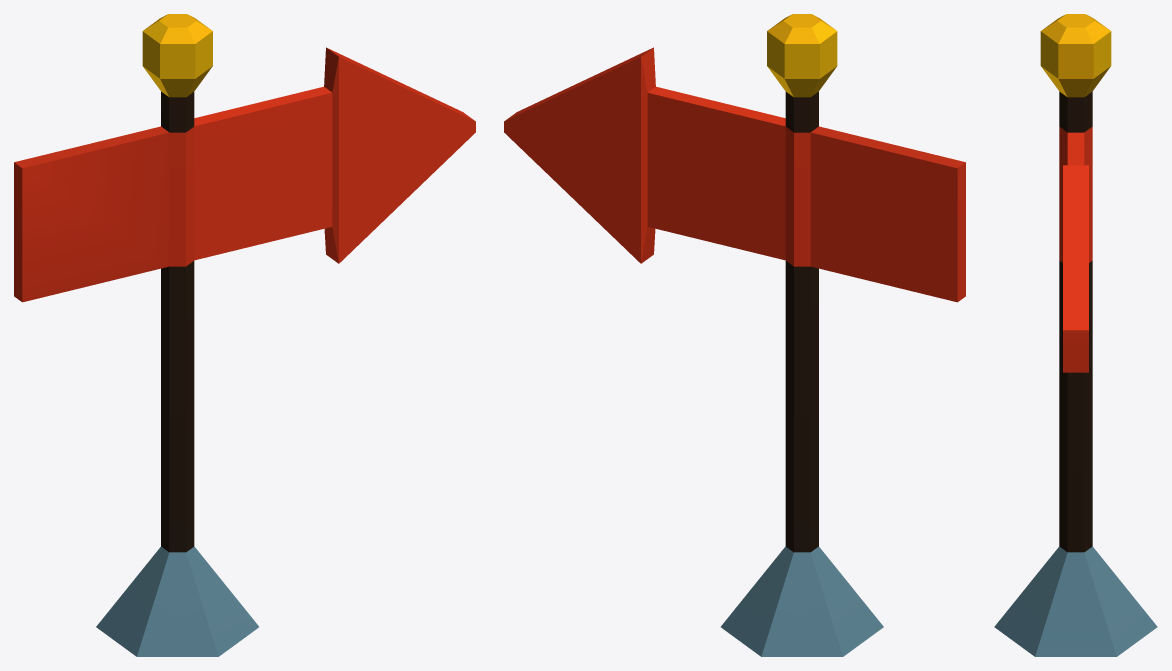
Rendered from SignSingle.fbx.
3 views of the same model, side by side, from view 1: azimuth 30°, elevation 25°; view 2: azimuth 150°, elevation 25°; view 3: azimuth 270°, elevation 25° (orthographic).
Parts seen in each view (by area): view 1: SignSingle_LOD0; view 2: SignSingle_LOD0; view 3: SignSingle_LOD0.
Boxes of the visible parts, x1,y1,x2,y2 form: SignSingle_LOD0: (14,14,475,656); SignSingle_LOD0: (504,14,965,656); SignSingle_LOD0: (994,14,1157,656).
Size of what is drawn, in the model's own units: 258 by 331 by 80.95.
2 materials, 2 textured.
